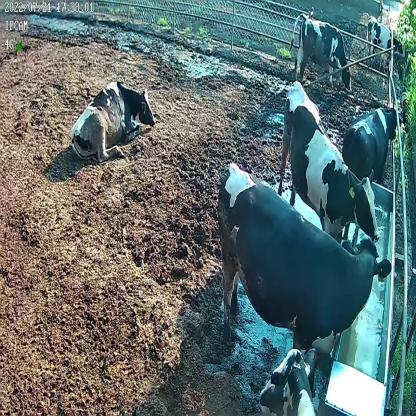cow: (215, 158, 392, 366), (278, 80, 380, 250), (70, 80, 155, 163), (290, 13, 352, 94), (342, 107, 399, 178), (367, 16, 404, 65)
